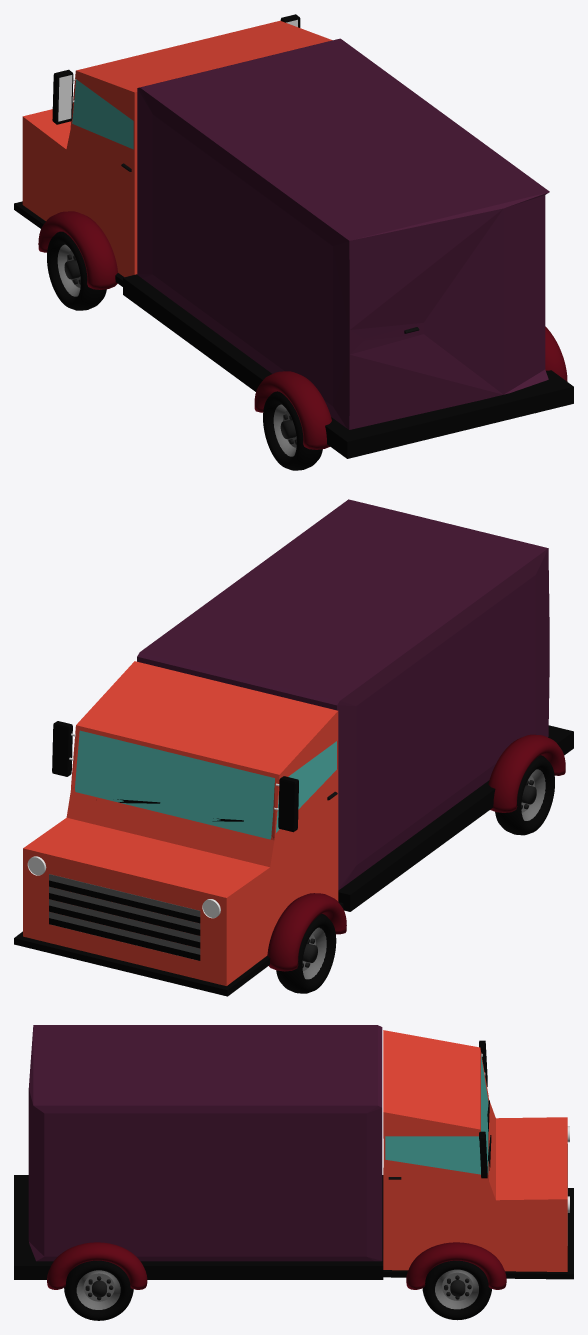
Rendered from Kamyon (1).dae.
The picture shows the model from 3 angles, top to bottom: view 1: azimuth 30°, elevation 25°; view 2: azimuth 150°, elevation 25°; view 3: azimuth 270°, elevation 25°; orthographic projection. The views are drawn at different scales.
Visible parts, largest first — view 1: Kasa, Gövde, Cube, Çamurluk.002, Çamurluk.003, CAM, tekerlek.002, tekerlek.003, Çamurluk.004, Cube.007, Cylinder.003, Cylinder.002; view 2: Kasa, Gövde, CAM.001, Cube, ızgara, Izgara Boşlu, Çamurluk.002, Çamurluk.003, Cube.001, tekerlek.002, tekerlek.003, CAM (+4 smaller); view 3: Kasa, Gövde, Cube, CAM.002, Çamurluk.005, Çamurluk.004, tekerlek.004, tekerlek, Cube.001, Cylinder, Cylinder.004, CAM.001.
Part boxes in pixels (<box>): Kasa: <box>137,38,549,429</box>; Gövde: <box>22,20,332,277</box>; Cube: <box>123,274,573,458</box>; Çamurluk.002: <box>38,211,117,289</box>; Çamurluk.003: <box>254,371,331,449</box>; CAM: <box>72,79,133,149</box>; tekerlek.002: <box>47,231,106,310</box>; tekerlek.003: <box>263,391,322,470</box>; Çamurluk.004: <box>545,326,567,381</box>; Cube.007: <box>58,75,72,121</box>; Cylinder.003: <box>273,404,296,456</box>; Cylinder.002: <box>57,244,80,296</box>; Kasa: <box>137,499,549,890</box>; Gövde: <box>23,661,338,985</box>; CAM.001: <box>75,730,274,839</box>; Cube: <box>338,725,573,911</box>; ızgara: <box>49,874,200,959</box>; Izgara Boşlu: <box>49,880,200,960</box>; Çamurluk.002: <box>267,893,346,971</box>; Çamurluk.003: <box>488,734,565,812</box>; Cube.001: <box>14,902,343,996</box>; tekerlek.002: <box>276,913,336,993</box>; tekerlek.003: <box>495,755,554,835</box>; CAM: <box>276,741,336,832</box>; Kasa: <box>28,1025,382,1261</box>; Gövde: <box>383,1030,567,1271</box>; Cube: <box>14,1175,383,1279</box>; CAM.002: <box>385,1136,480,1174</box>; Çamurluk.005: <box>406,1242,506,1289</box>; Çamurluk.004: <box>47,1242,147,1289</box>; tekerlek.004: <box>64,1260,133,1320</box>; tekerlek: <box>422,1260,491,1320</box>; Cube.001: <box>383,1188,573,1279</box>; Cylinder: <box>435,1269,478,1309</box>; Cylinder.004: <box>76,1270,120,1309</box>; CAM.001: <box>481,1054,488,1174</box>.
Size of the model in its own units: 2.56 by 5.77 by 2.35.
